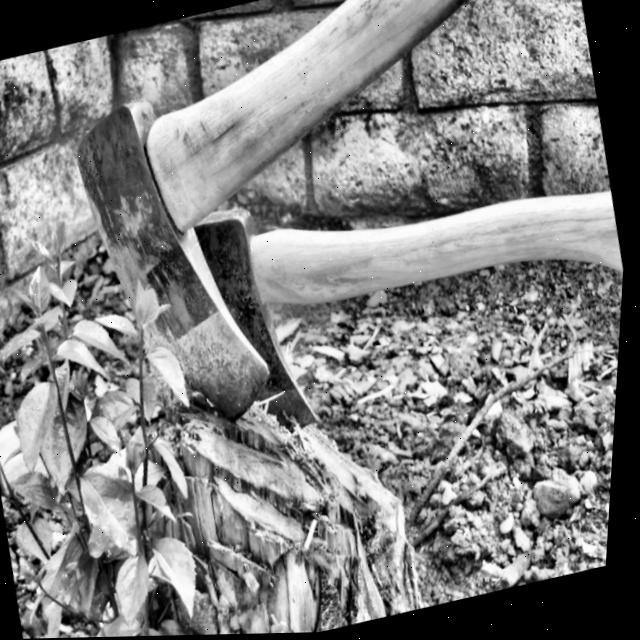kapak: (45, 0, 480, 442)
